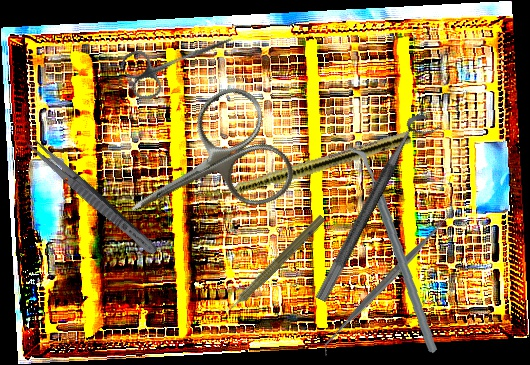Chopper: (333, 143, 453, 354)
Dressing Forceps: (22, 134, 161, 259)
Fixation Ring: (314, 110, 441, 311)
Handpiece: (195, 127, 413, 209), (217, 210, 328, 321)
Iris Scissors: (102, 77, 303, 263), (118, 14, 242, 104)
Spatula Surgical: (312, 206, 460, 359)
